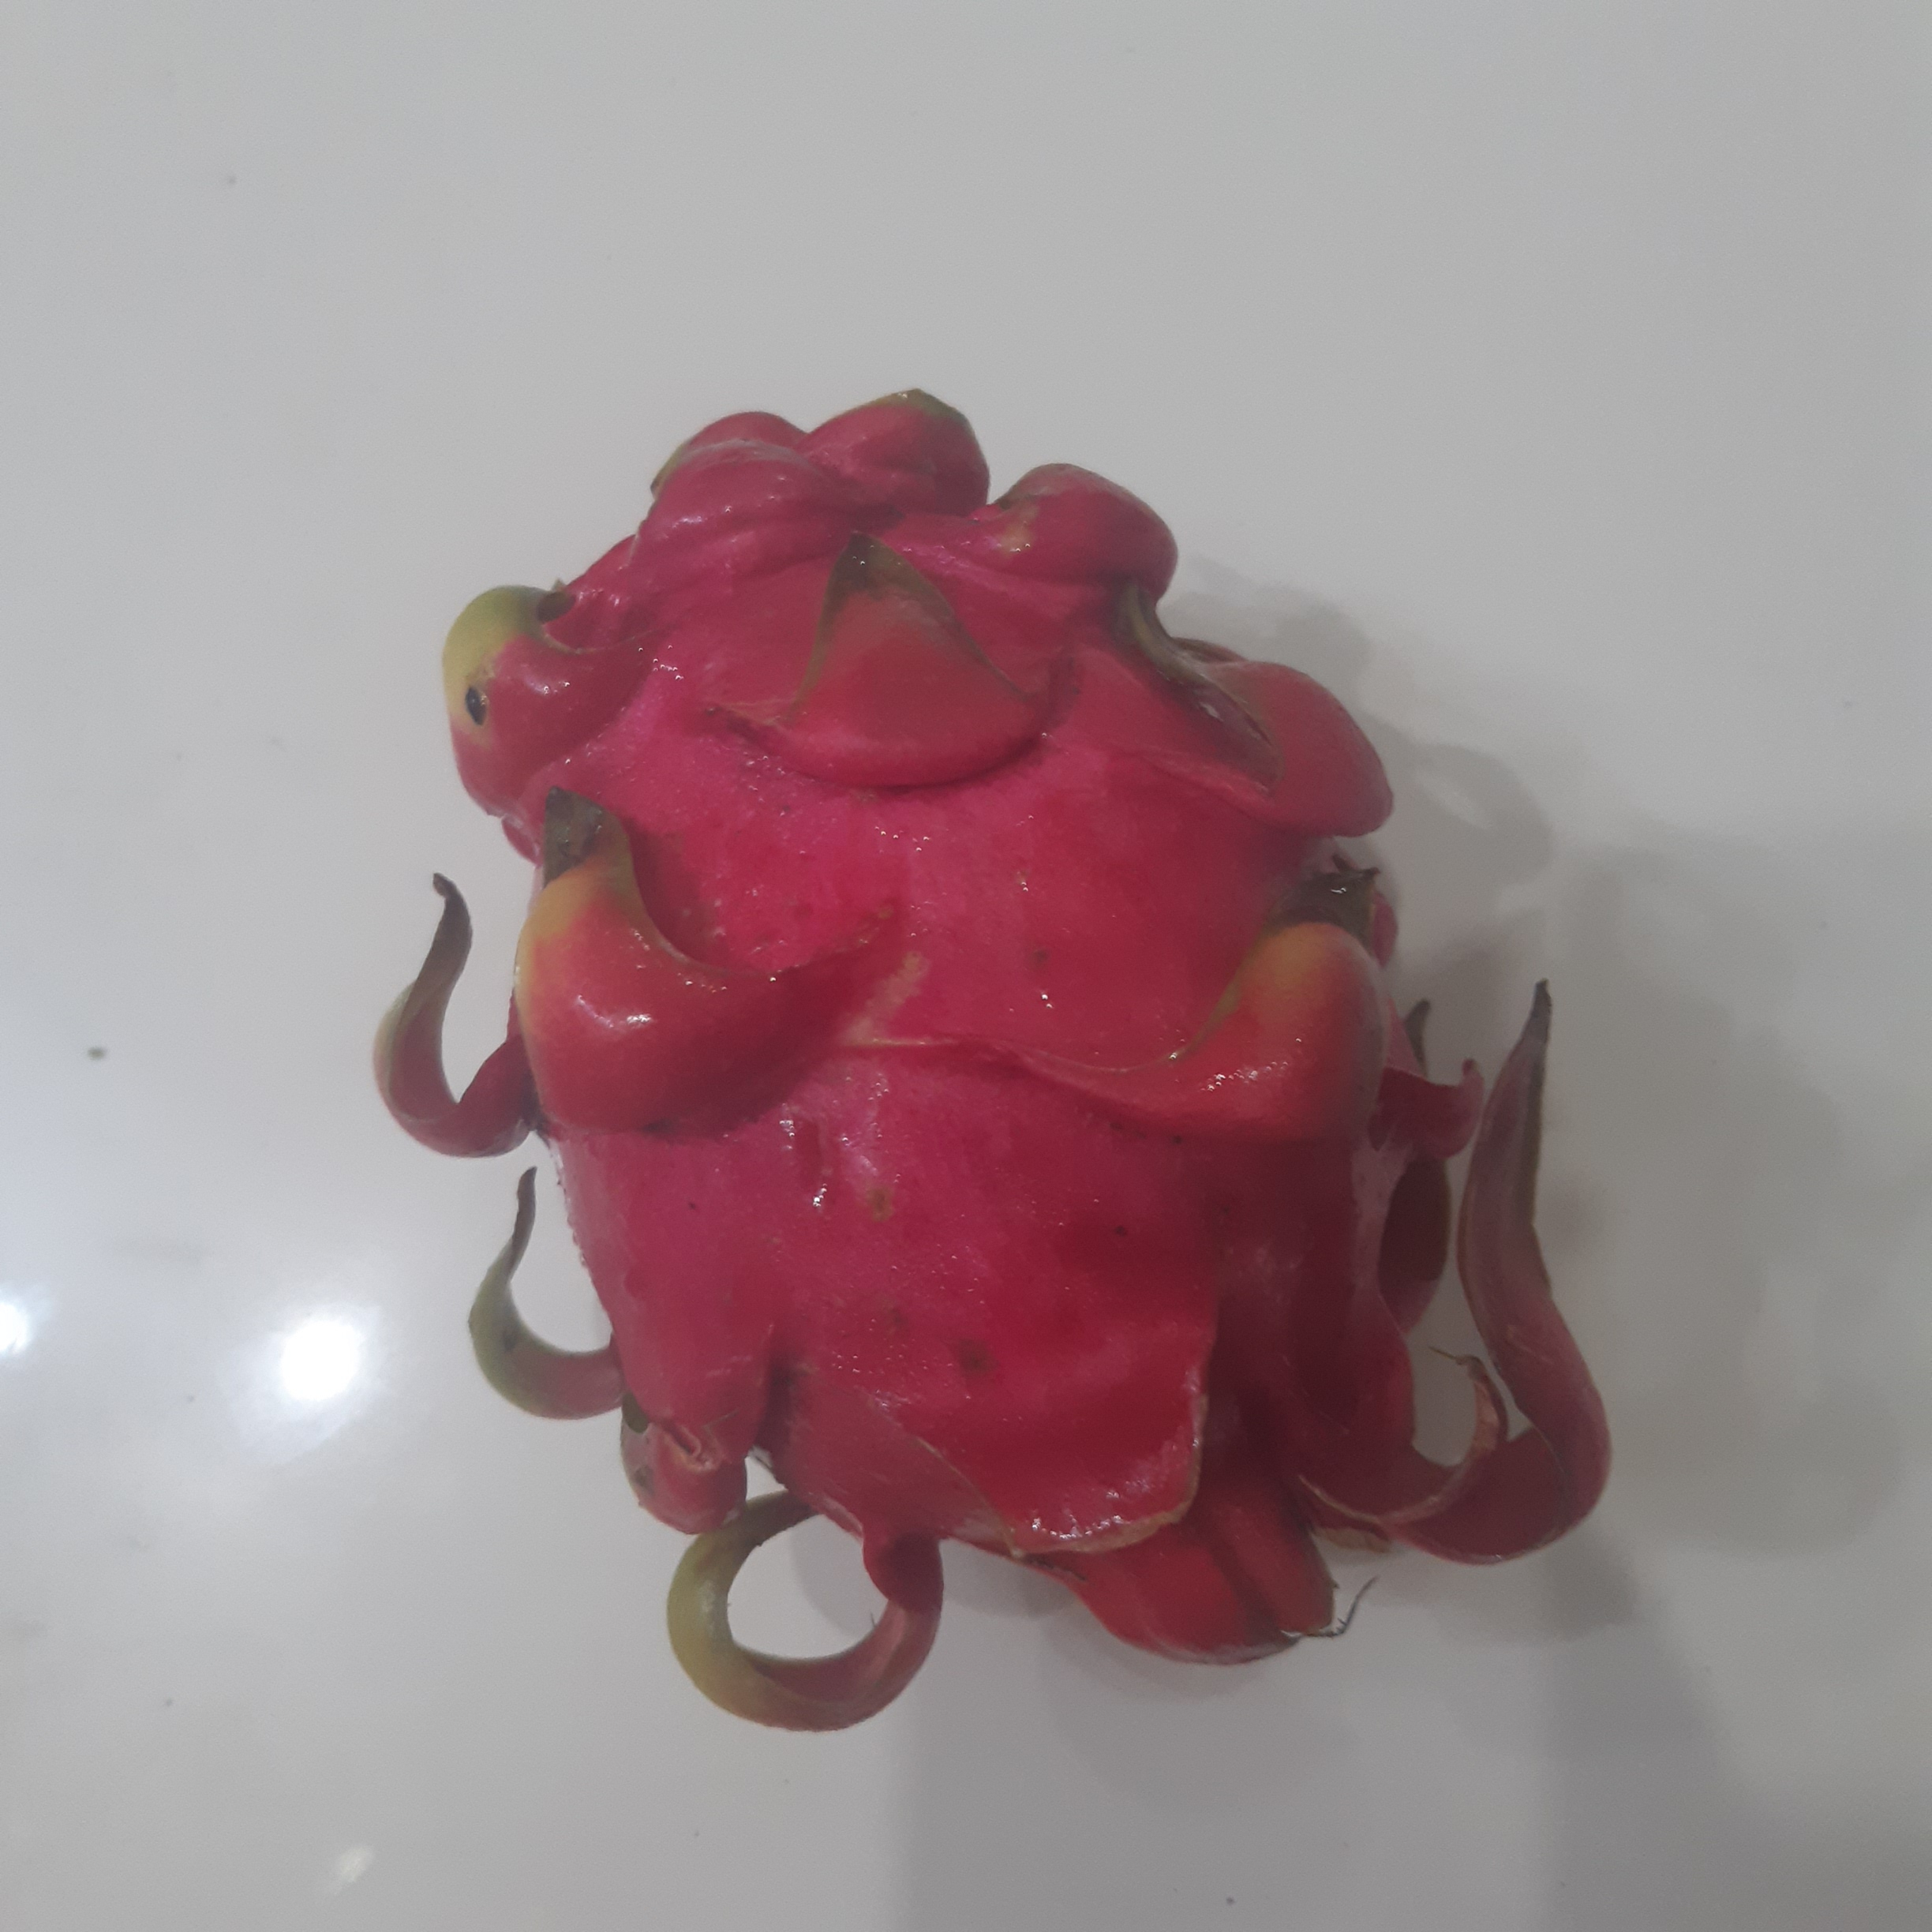Thanh long: (444, 391, 1412, 1668)
